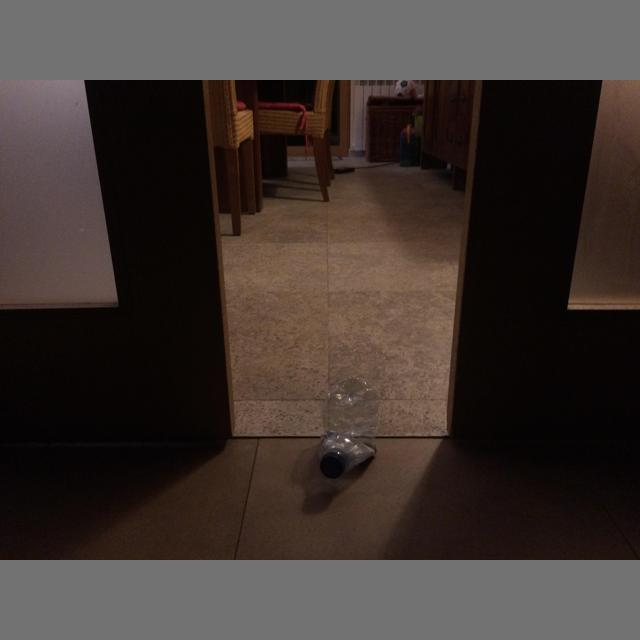litter: (317, 376, 380, 479), (321, 453, 345, 479)
